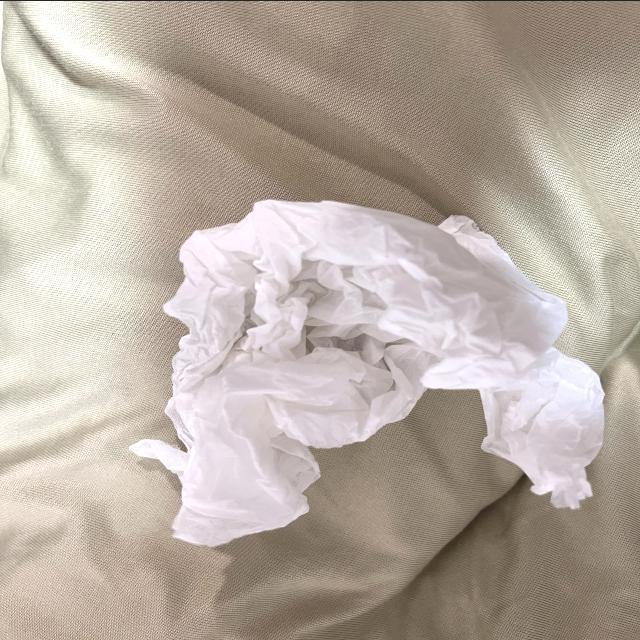Paper: (114, 188, 598, 524)
